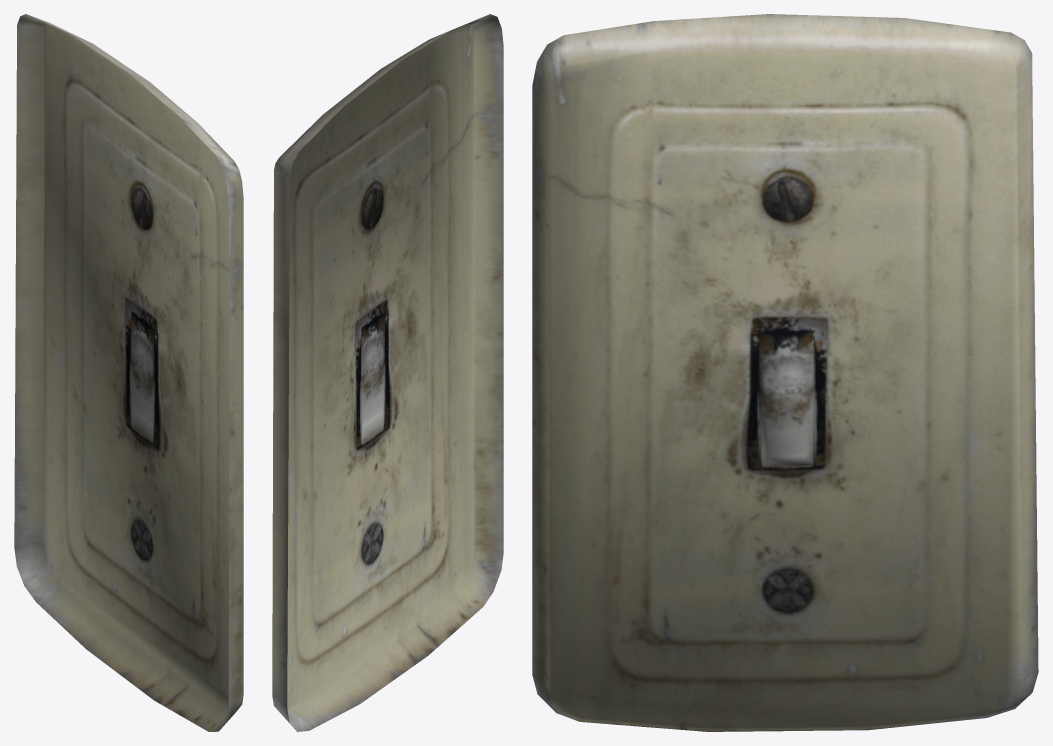
Rendered from Electrical_Switch_01.fbx.
3 views of the same model, side by side, from view 1: azimuth 30°, elevation 25°; view 2: azimuth 150°, elevation 25°; view 3: azimuth 270°, elevation 25° (orthographic). The views are drawn at different scales.
Parts seen in each view (by area): view 1: Electrical_Switch_01; view 2: Electrical_Switch_01; view 3: Electrical_Switch_01.
Part boxes in pixels (x1,y1,x2,y2): Electrical_Switch_01: (14, 14, 243, 731); Electrical_Switch_01: (272, 14, 503, 731); Electrical_Switch_01: (532, 14, 1038, 731).
Size of the model in its own units: 1.53 by 13.87 by 21.72.
Materials: 1 (1 with a texture image).
